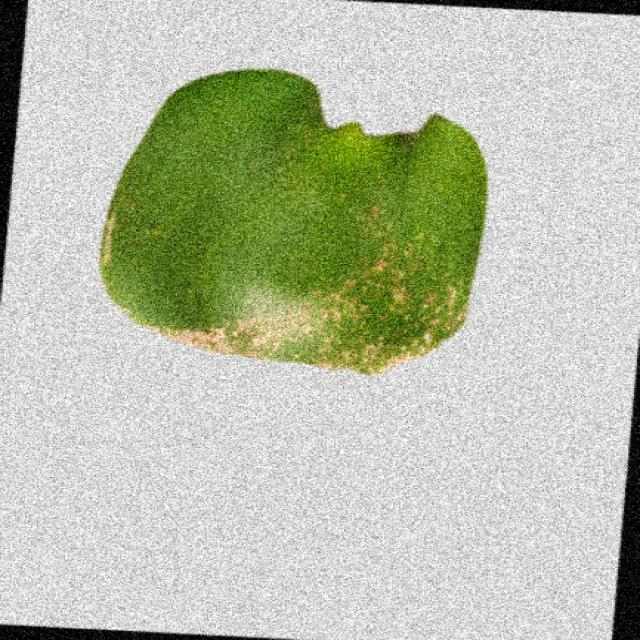daun berpenyakit bercak: (100, 71, 486, 373)
